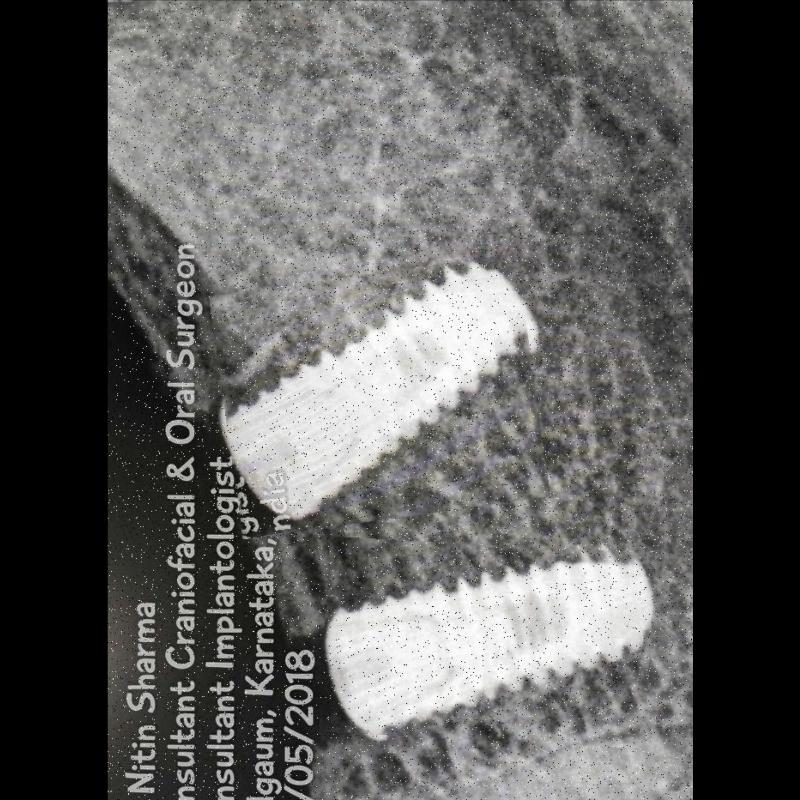osstem: (217, 262, 543, 528), (322, 542, 652, 744)
